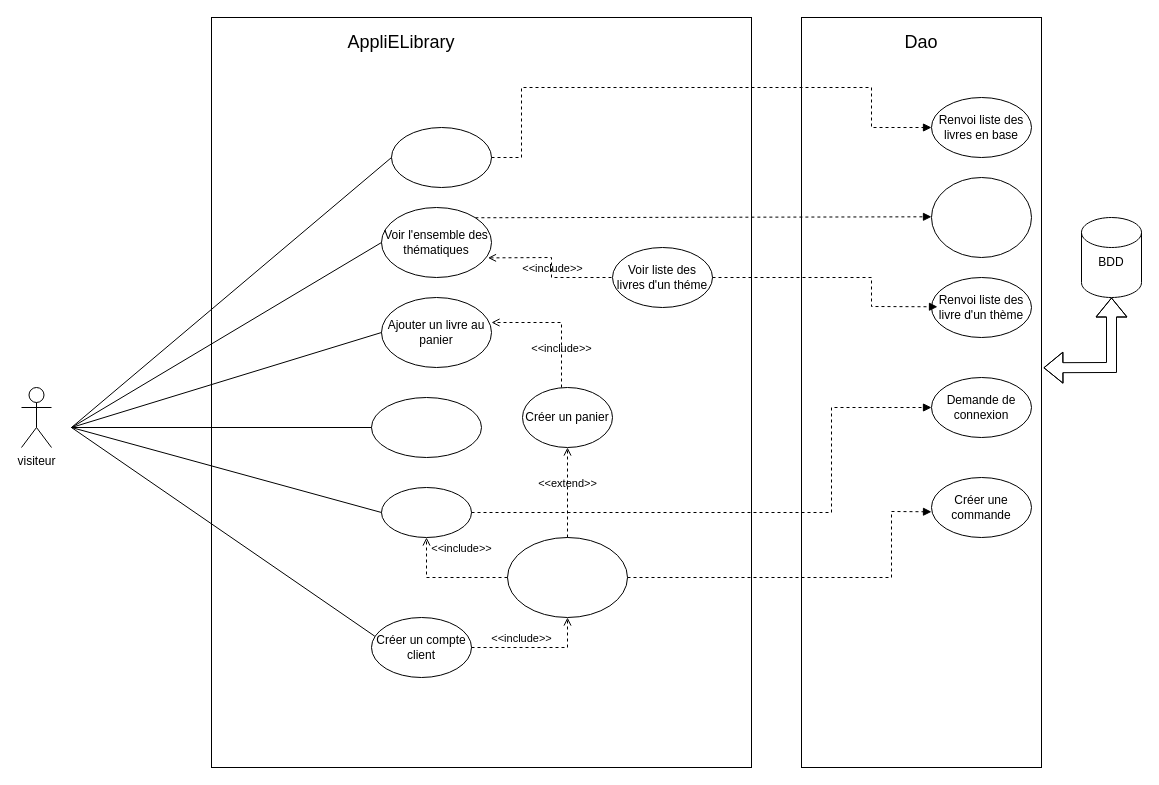
Image size: 1159x785. Some labels were removed from this diagram. Each missing label, with the box of its shape:
Connexion: (380, 486, 472, 538)
Passer commande: (506, 536, 628, 618)
Renvoi liste des thème en base: (930, 176, 1032, 258)
Supprimer un livre du panier: (370, 396, 482, 458)
Voir l'ensemble des livres: (390, 126, 492, 188)
